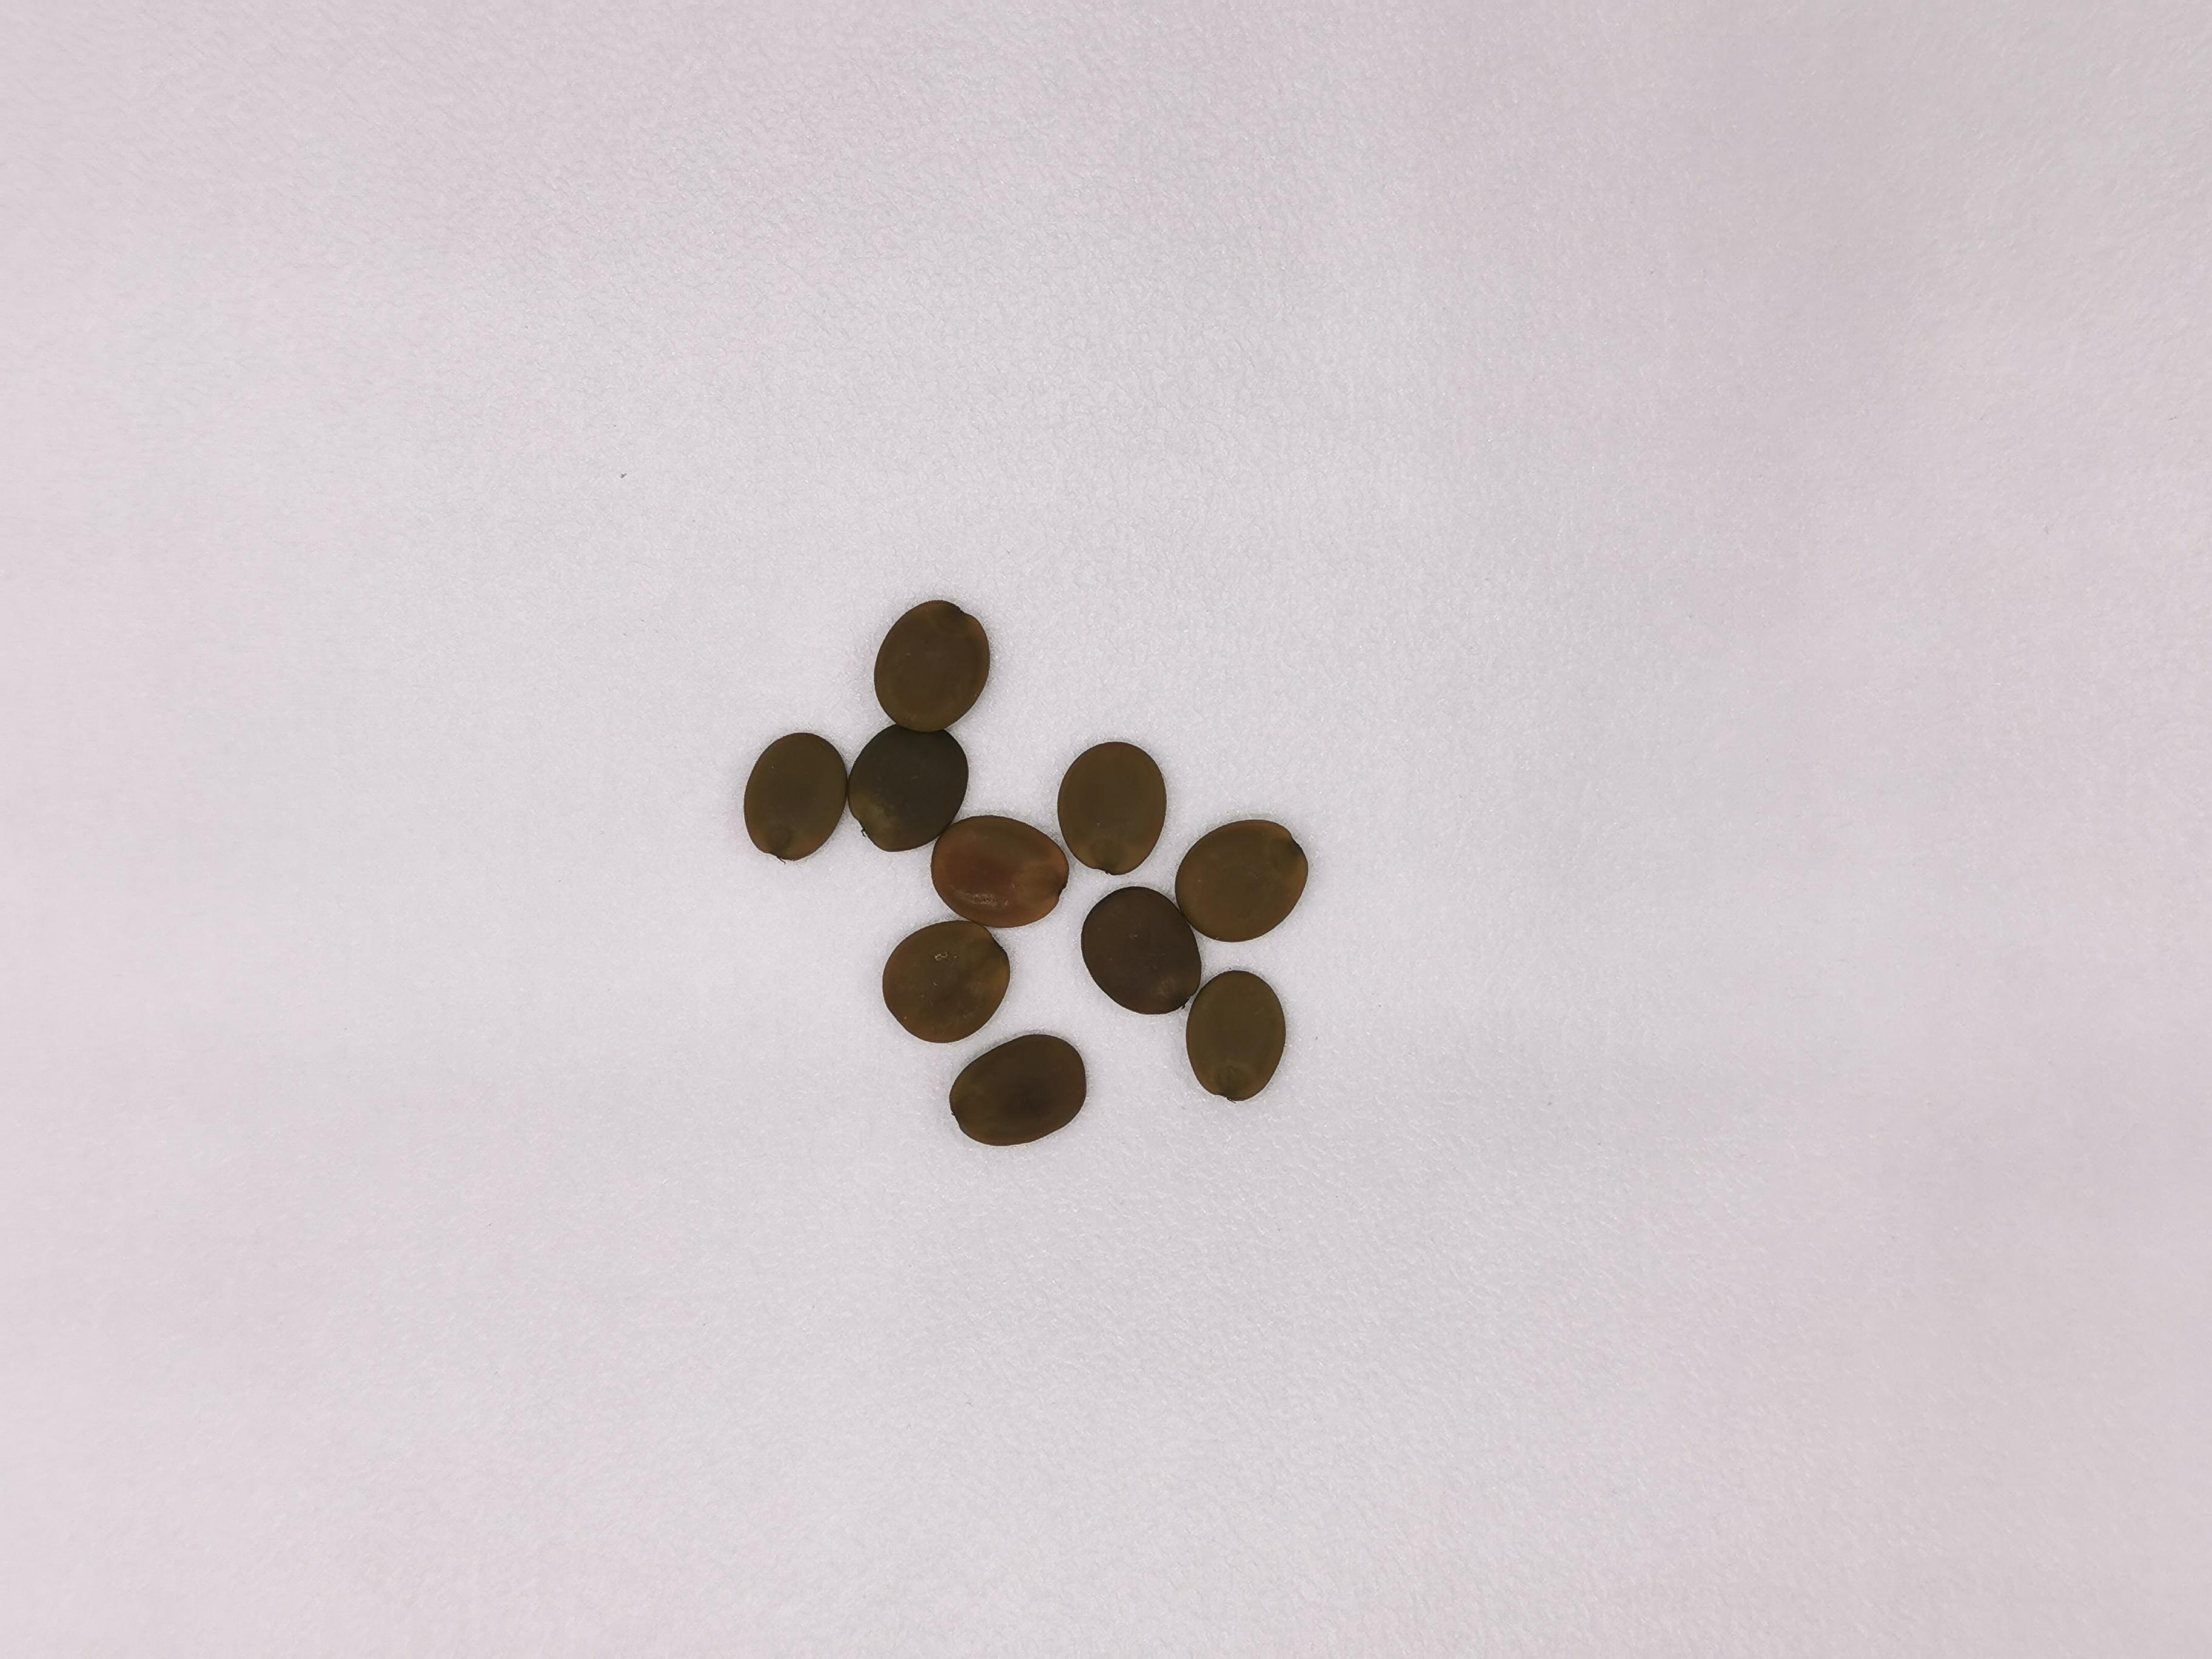seed: (1172, 814, 1306, 941), (880, 918, 1014, 1044), (930, 812, 1073, 927), (1050, 737, 1169, 873), (949, 1032, 1089, 1147), (845, 725, 968, 852), (1082, 885, 1198, 1016), (873, 599, 988, 732), (744, 730, 846, 864), (1186, 969, 1284, 1103)
